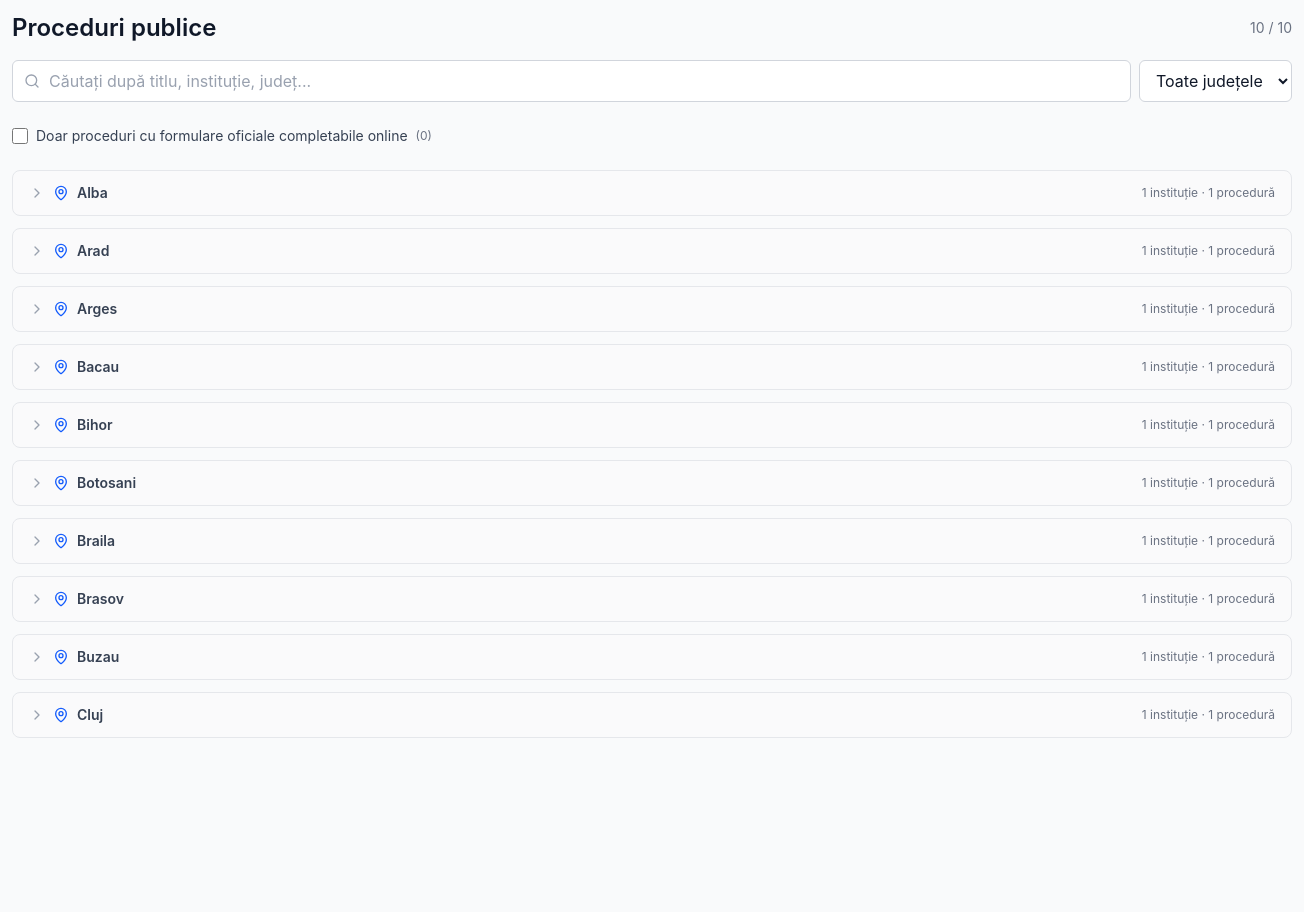
Test: ProceduresIndexPage menu state › records an expanded county in the URL
Step 1. Click the button "Cluj 1 instituție · 1 procedură" → click(1174, 714), box [13, 693, 1291, 737]
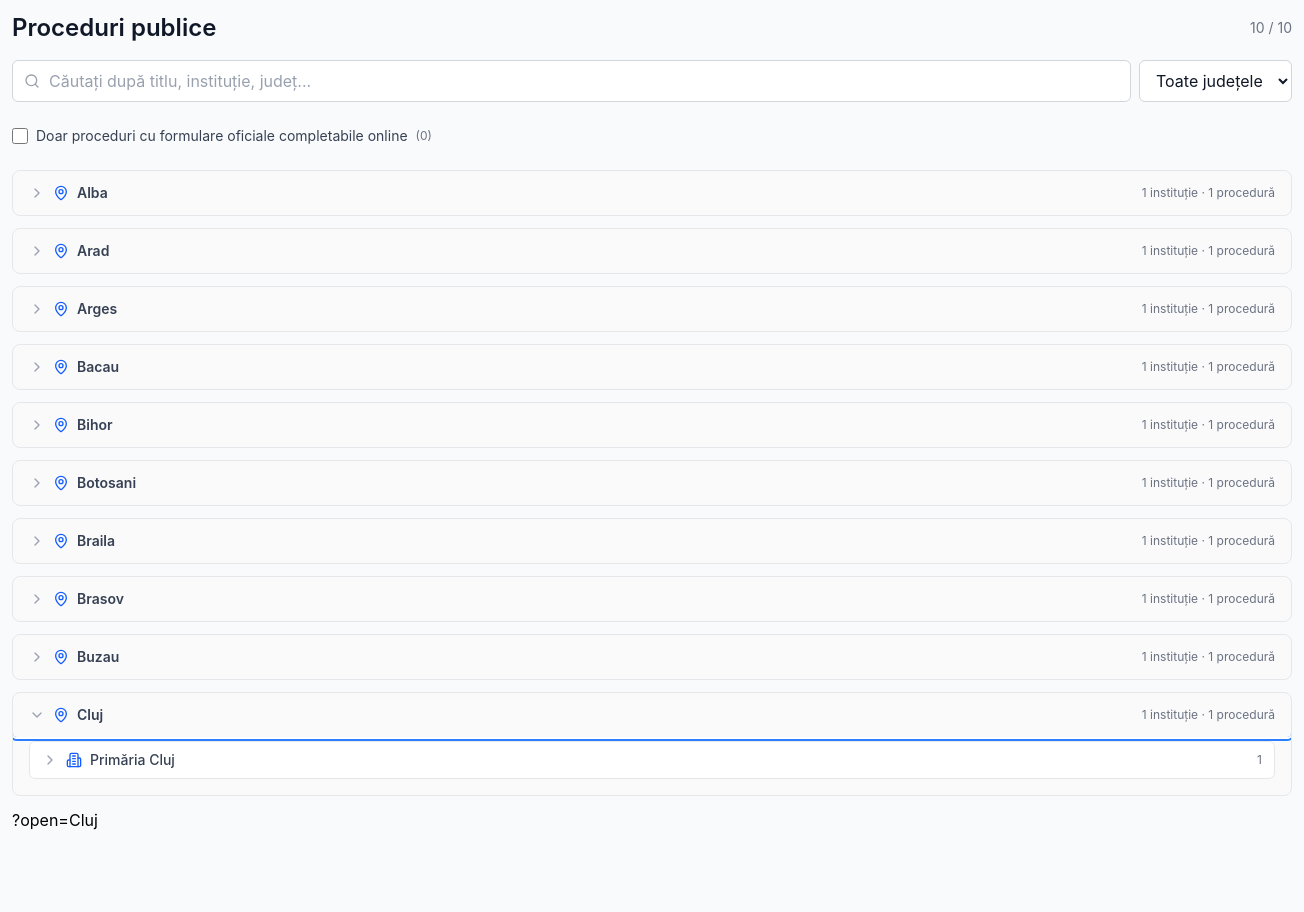
Check: the text with test id "search" shows "open=Cluj", box [12, 810, 98, 830]
Check: the button "Primăria Cluj 1" is shown, box [30, 742, 1274, 778]
